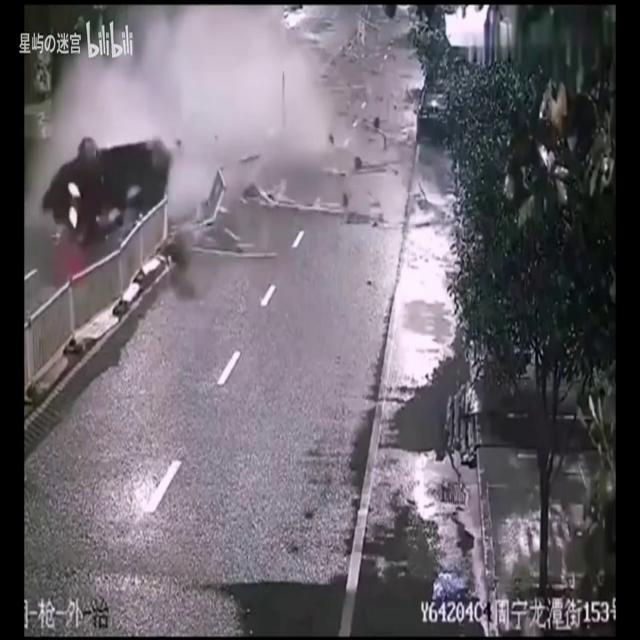accident: (36, 24, 422, 264)
